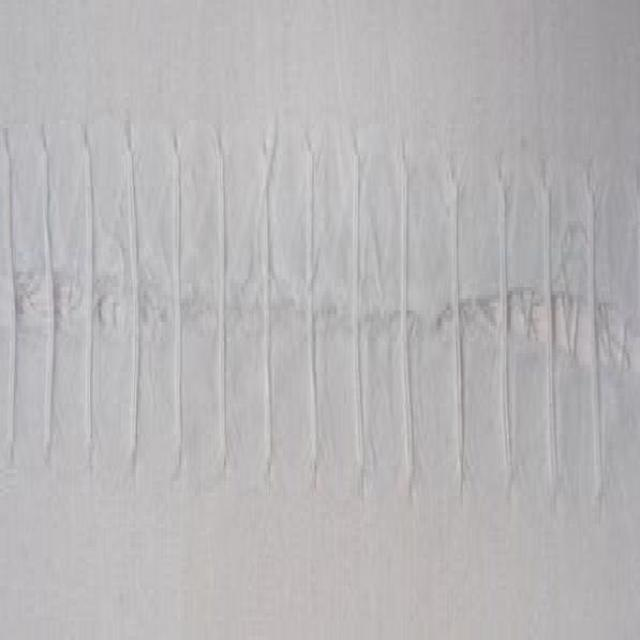gray stitch: (2, 110, 610, 522)
